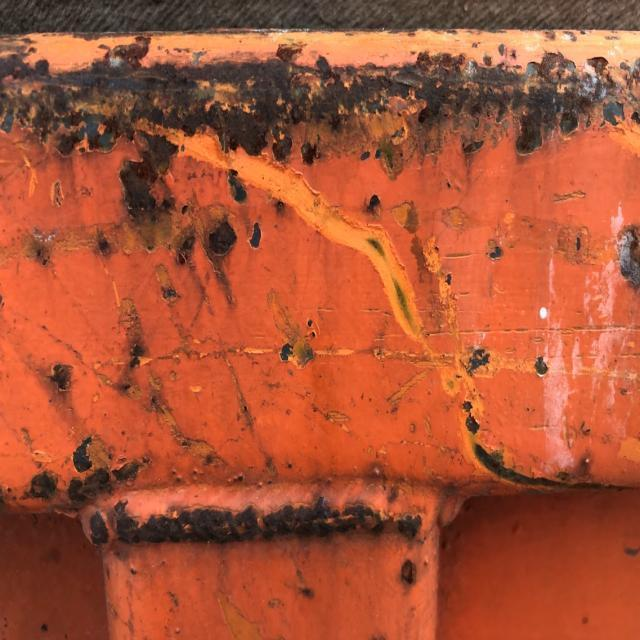Corrosion: (0, 28, 639, 637)
